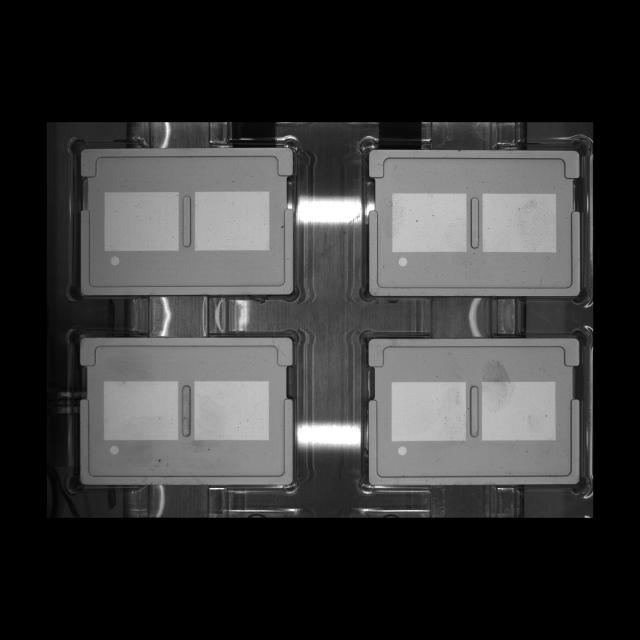product: (65, 323, 305, 499), (357, 134, 590, 308), (355, 327, 592, 498), (66, 136, 305, 305)
